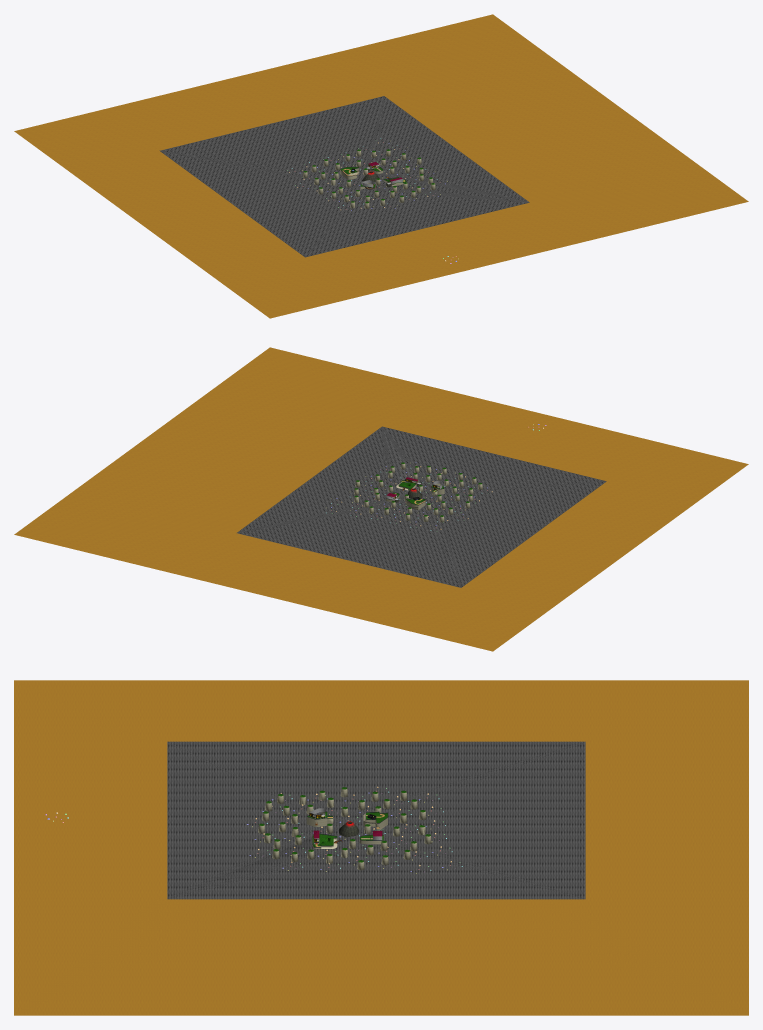
The picture shows the model from 3 angles, top to bottom: view 1: azimuth 30°, elevation 25°; view 2: azimuth 150°, elevation 25°; view 3: azimuth 270°, elevation 25°; orthographic projection. The views are drawn at different scales.
Parts seen in each view (by area): view 1: course.064, course.063, course.056; view 2: course.064, course.063, course.056, course.065; view 3: course.064, course.063, course.056, course.065.
Part boxes in pixels (x1=…): course.064: x1=14, y1=14, x2=748, y2=318; course.063: x1=159, y1=96, x2=529, y2=257; course.056: x1=303, y1=150, x2=435, y2=208; course.064: x1=14, y1=347, x2=748, y2=651; course.063: x1=237, y1=426, x2=606, y2=587; course.056: x1=354, y1=463, x2=482, y2=522; course.065: x1=354, y1=462, x2=481, y2=516; course.064: x1=14, y1=680, x2=748, y2=1015; course.063: x1=167, y1=741, x2=585, y2=899; course.056: x1=258, y1=788, x2=431, y2=870; course.065: x1=259, y1=787, x2=430, y2=862.
Bounding box in the file's own units: 1318008 × 22585 × 1220084.
42 materials, 41 textured.
